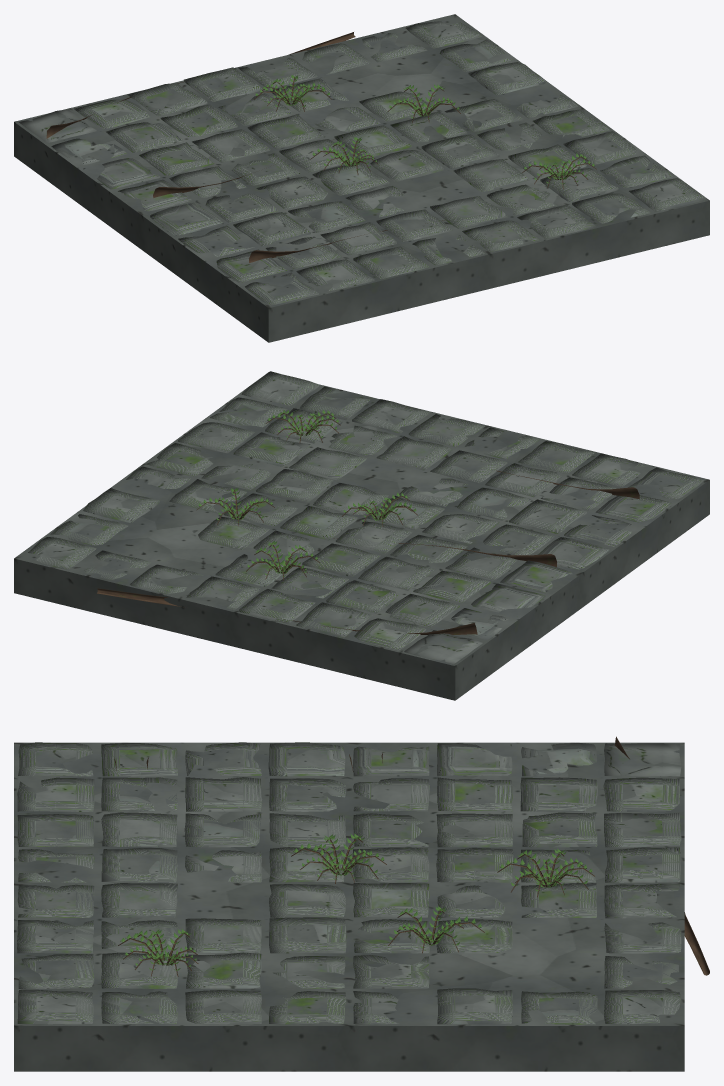
File: mod_floor_stone_broken_4m.glb
3 views of the same model, one above another, from view 1: azimuth 30°, elevation 25°; view 2: azimuth 150°, elevation 25°; view 3: azimuth 270°, elevation 25° (orthographic). The views are drawn at different scales.
Parts seen in each view (by area): view 1: mod_floor_stone_broken_4m__stone_block, mod_floor_stone_broken_4m__stone_dark, mod_floor_stone_broken_4m__root, mod_floor_stone_broken_4m__leaf; view 2: mod_floor_stone_broken_4m__stone_block, mod_floor_stone_broken_4m__stone_dark, mod_floor_stone_broken_4m__root, mod_floor_stone_broken_4m__leaf; view 3: mod_floor_stone_broken_4m__stone_block, mod_floor_stone_broken_4m__stone_dark, mod_floor_stone_broken_4m__leaf, mod_floor_stone_broken_4m__root.
Boxes of the visible parts, box(x1,y1,x2,y2) form: mod_floor_stone_broken_4m__stone_block: box(19, 21, 705, 305); mod_floor_stone_broken_4m__stone_dark: box(14, 14, 709, 342); mod_floor_stone_broken_4m__root: box(46, 32, 596, 262); mod_floor_stone_broken_4m__leaf: box(255, 75, 594, 184); mod_floor_stone_broken_4m__stone_block: box(28, 371, 703, 664); mod_floor_stone_broken_4m__stone_dark: box(14, 372, 709, 700); mod_floor_stone_broken_4m__root: box(96, 413, 639, 634); mod_floor_stone_broken_4m__leaf: box(198, 410, 416, 576); mod_floor_stone_broken_4m__stone_block: box(17, 742, 681, 1024); mod_floor_stone_broken_4m__stone_dark: box(14, 742, 684, 1071); mod_floor_stone_broken_4m__leaf: box(120, 833, 592, 970); mod_floor_stone_broken_4m__root: box(114, 736, 709, 976).
Bounding box in the file's own units: 4 × 0.4768 × 4.15.
Materials: 5 (5 with a texture image).
